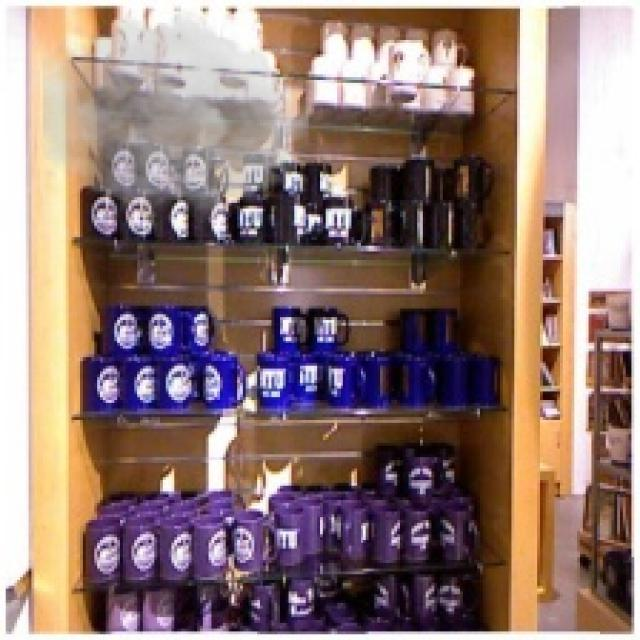smoke: (43, 8, 308, 223)
